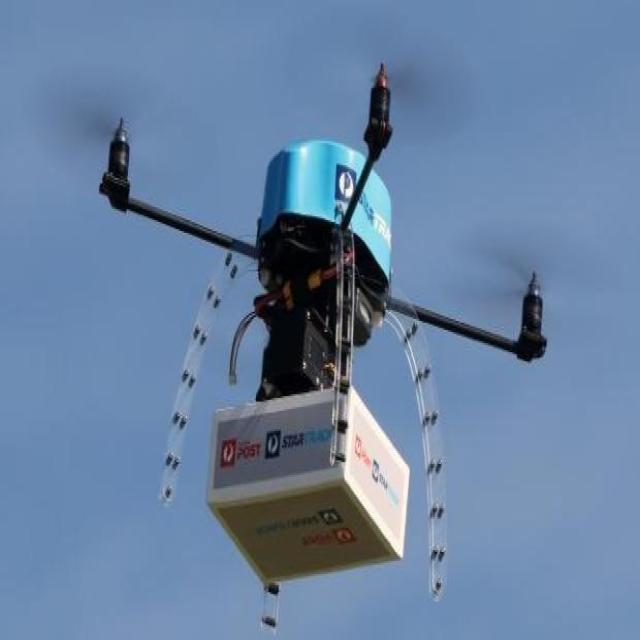drone: (99, 59, 547, 630)
